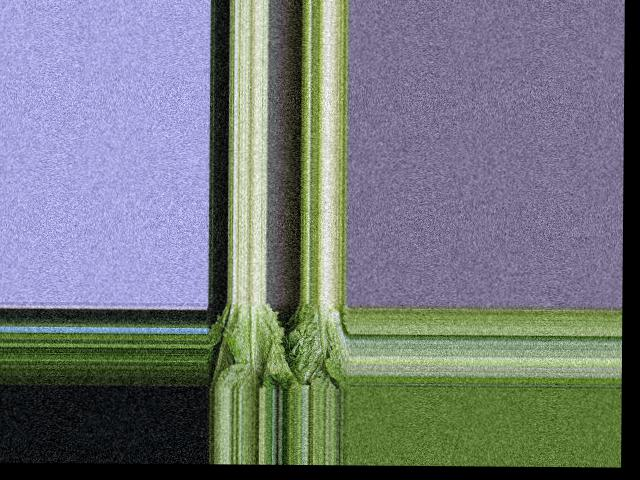lettuce: (289, 302, 345, 384)
